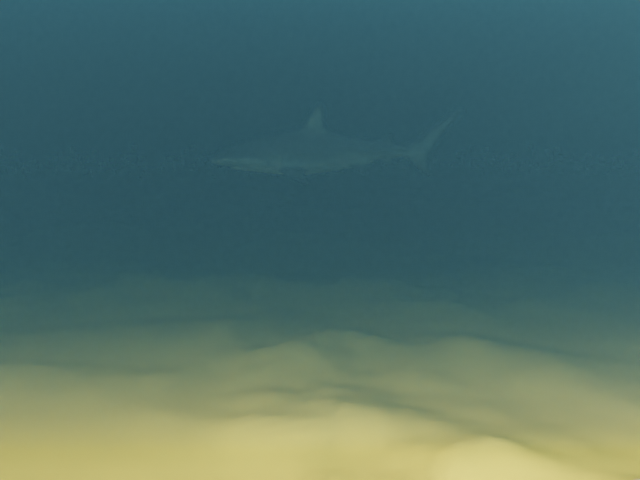Carribean Shark.001: (210, 104, 462, 184)
